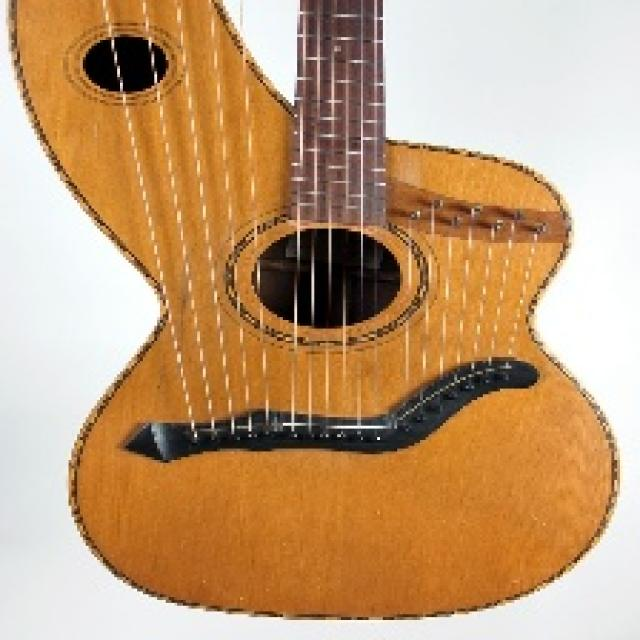guitar: (10, 0, 623, 624)
